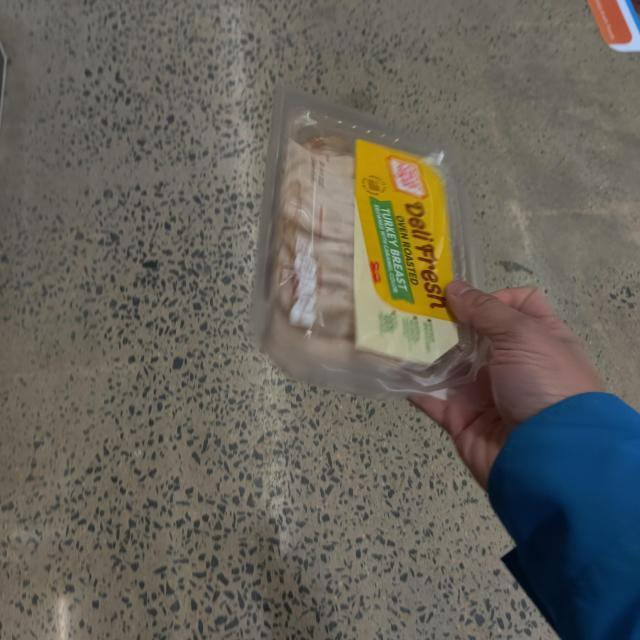Meat: (259, 71, 486, 413)
